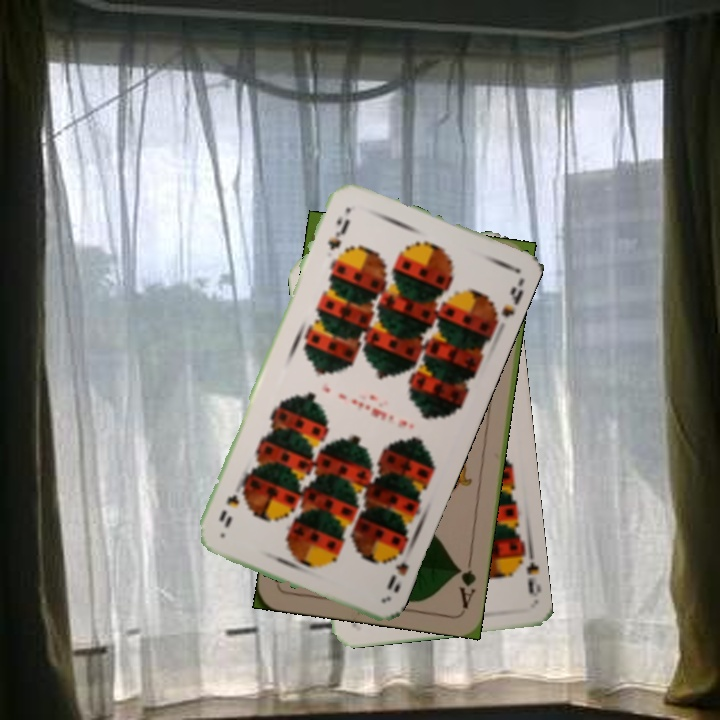GA: (453, 552, 479, 611)
S9: (511, 543, 542, 599), (382, 542, 411, 593), (323, 213, 353, 253)
